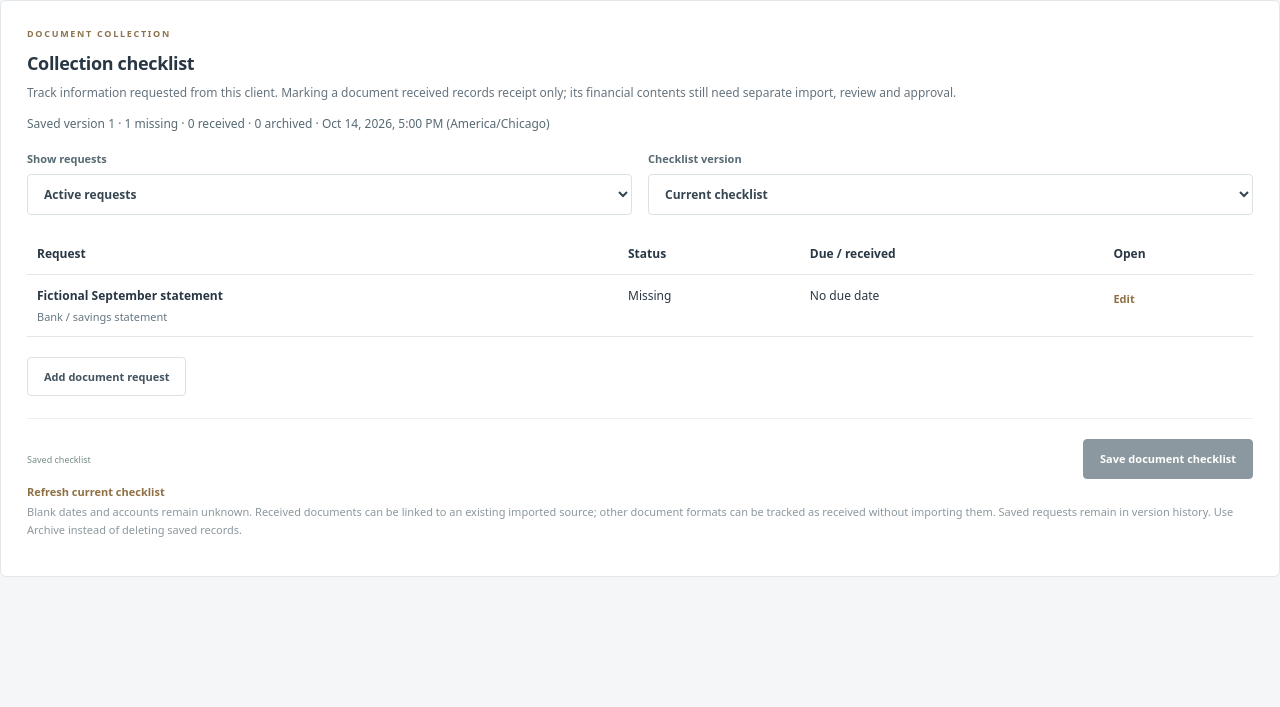
Test case: keeps historical snapshots read-only even at the latest saved version and returns explicitly to current
Select "Version 1 · Oct 14, 2026, 5:00 PM (America/Chicago)" in the dropdown labelled "Checklist version" at (950, 194), box x1=648 y1=174 x2=1253 y2=215
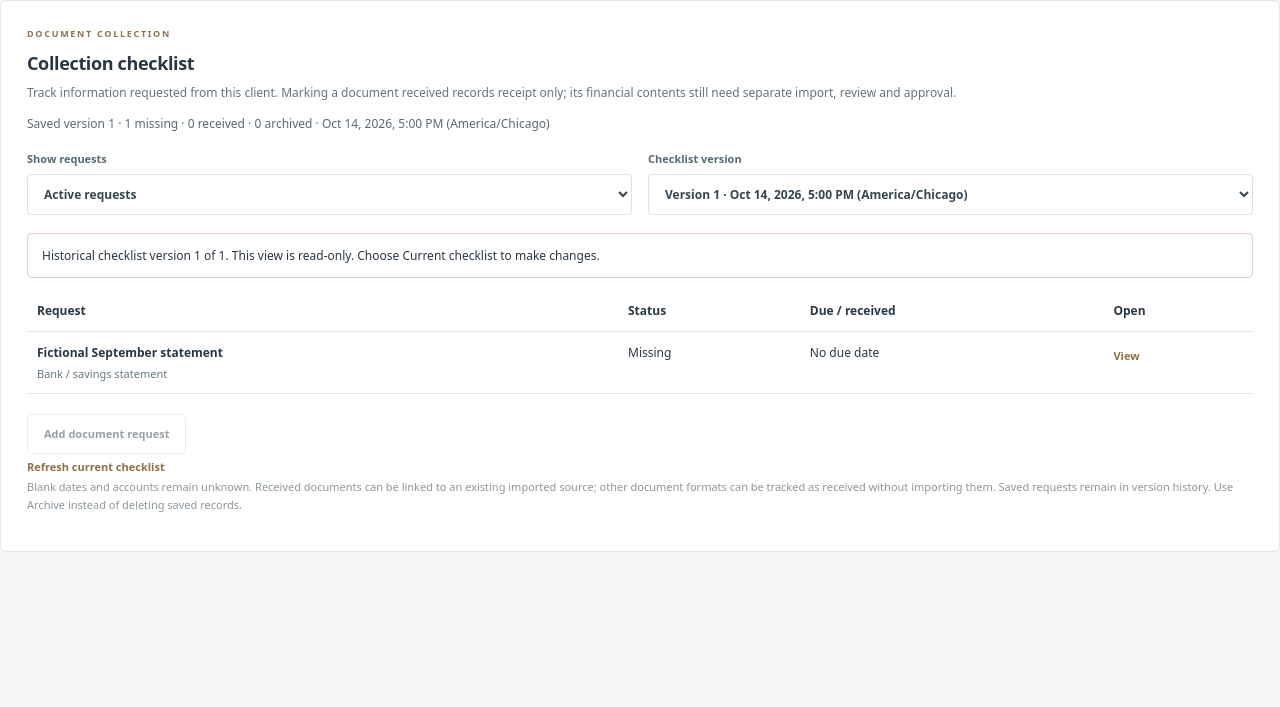
Expected: the text "Historical checklist version 1 of 1" is shown, x1=27 y1=233 x2=1253 y2=278
Click the button "View" at (1126, 356), box x1=1113 y1=344 x2=1140 y2=367
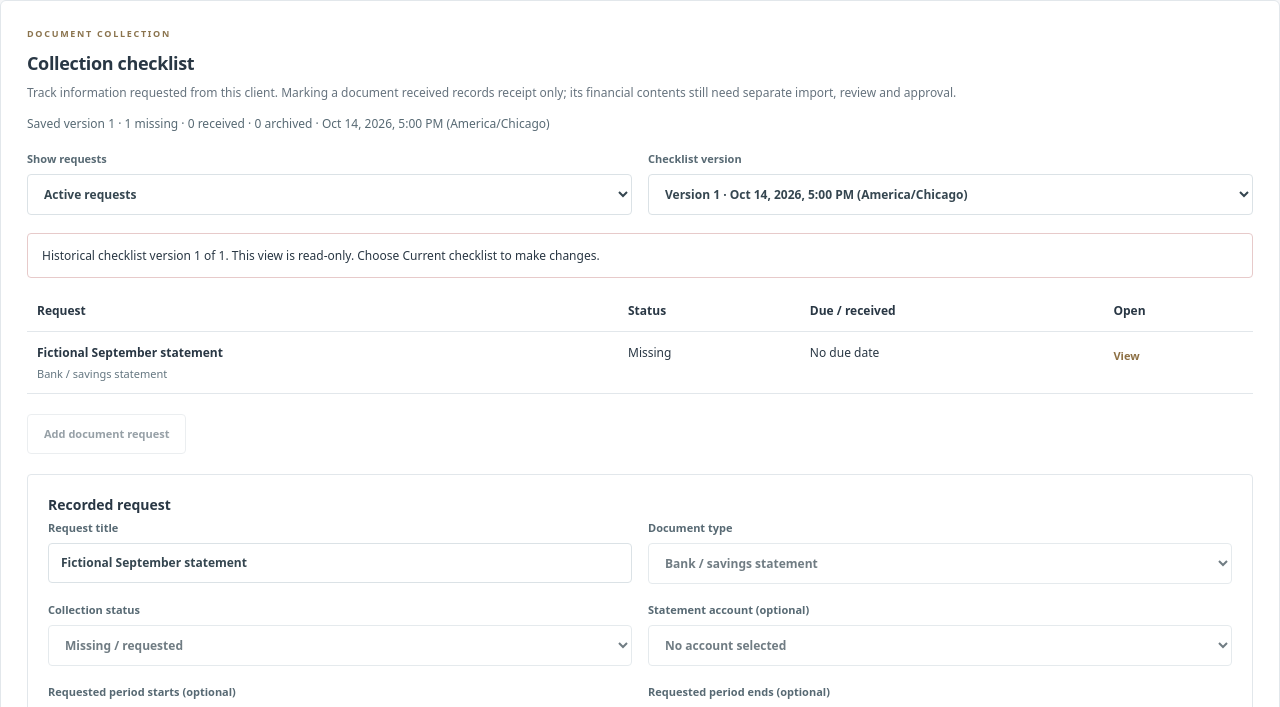
Expected: the button "Save document checklist" is not shown
Expected: the field labelled "Request title" is disabled, x1=48 y1=542 x2=632 y2=582
Select "Current checklist" in the dropdown labelled "Checklist version" at (950, 194), box x1=648 y1=174 x2=1253 y2=215
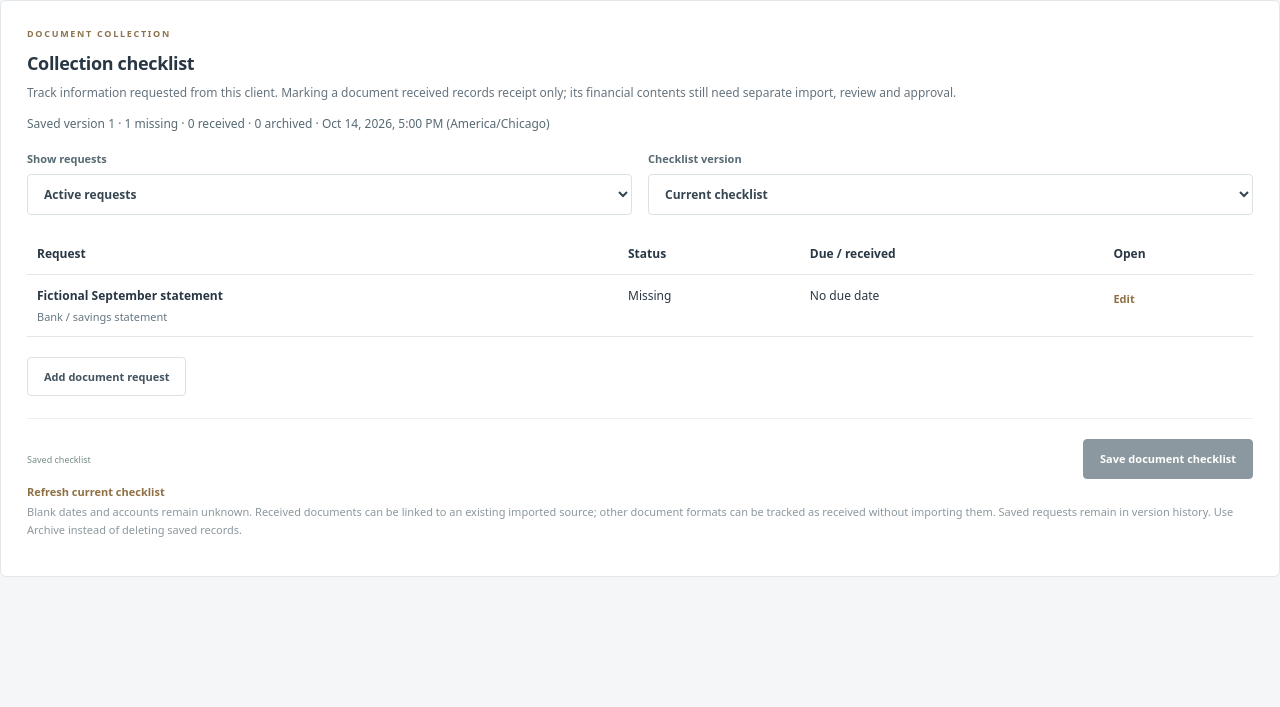
Expected: the button "Add document request" is enabled, x1=27 y1=357 x2=186 y2=396
Expected: the text "Historical checklist" is gone
